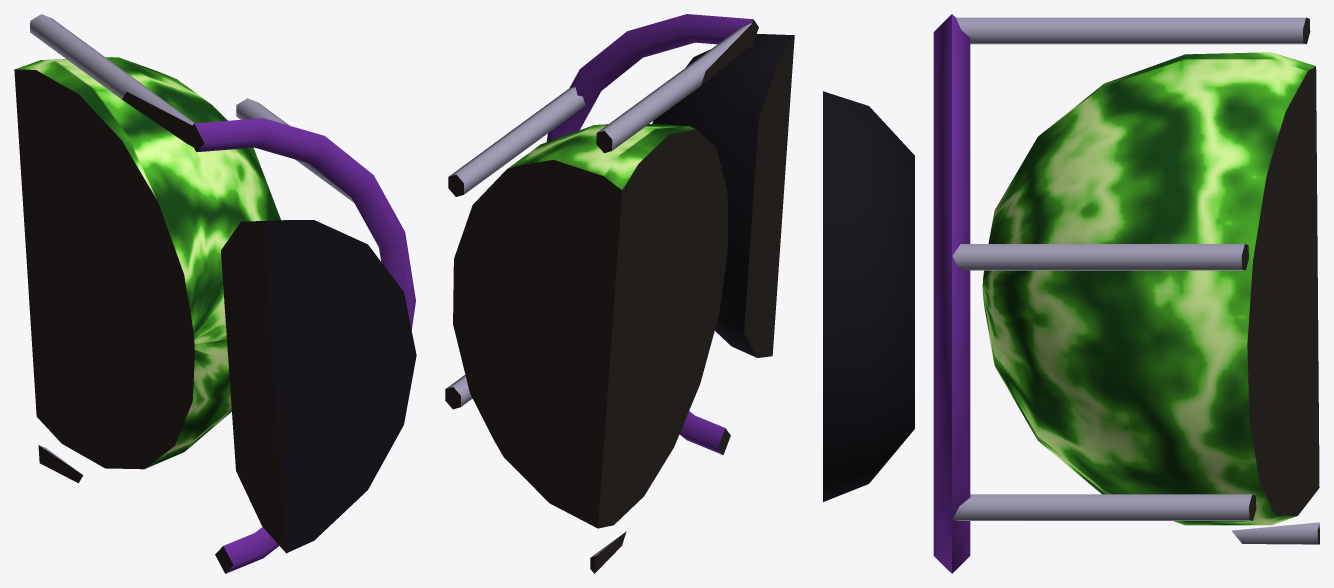
The model's file is dominion_shield_pod_debris3.obj.
3 renders of one model, left to right at view 1: azimuth 30°, elevation 25°; view 2: azimuth 150°, elevation 25°; view 3: azimuth 270°, elevation 25°, orthographic. The views are drawn at different scales.
Visible parts, largest first — view 1: core, collar, cage_ring, cage_bar; view 2: core, collar, cage_bar, cage_ring; view 3: core, collar, cage_bar, cage_ring.
Part boxes in pixels (x1,y1,x2,y2): core: (14, 57, 280, 469); collar: (221, 220, 416, 553); cage_ring: (186, 118, 415, 573); cage_bar: (30, 14, 353, 483); core: (453, 124, 727, 528); collar: (652, 34, 794, 357); cage_bar: (445, 23, 752, 573); cage_ring: (546, 14, 758, 454); core: (982, 52, 1319, 525); collar: (823, 91, 914, 501); cage_bar: (952, 17, 1319, 544); cage_ring: (933, 14, 970, 573).
Bounding box in the file's own units: 3.53 × 6.33 × 5.39.
Materials: 5 (1 with a texture image).
